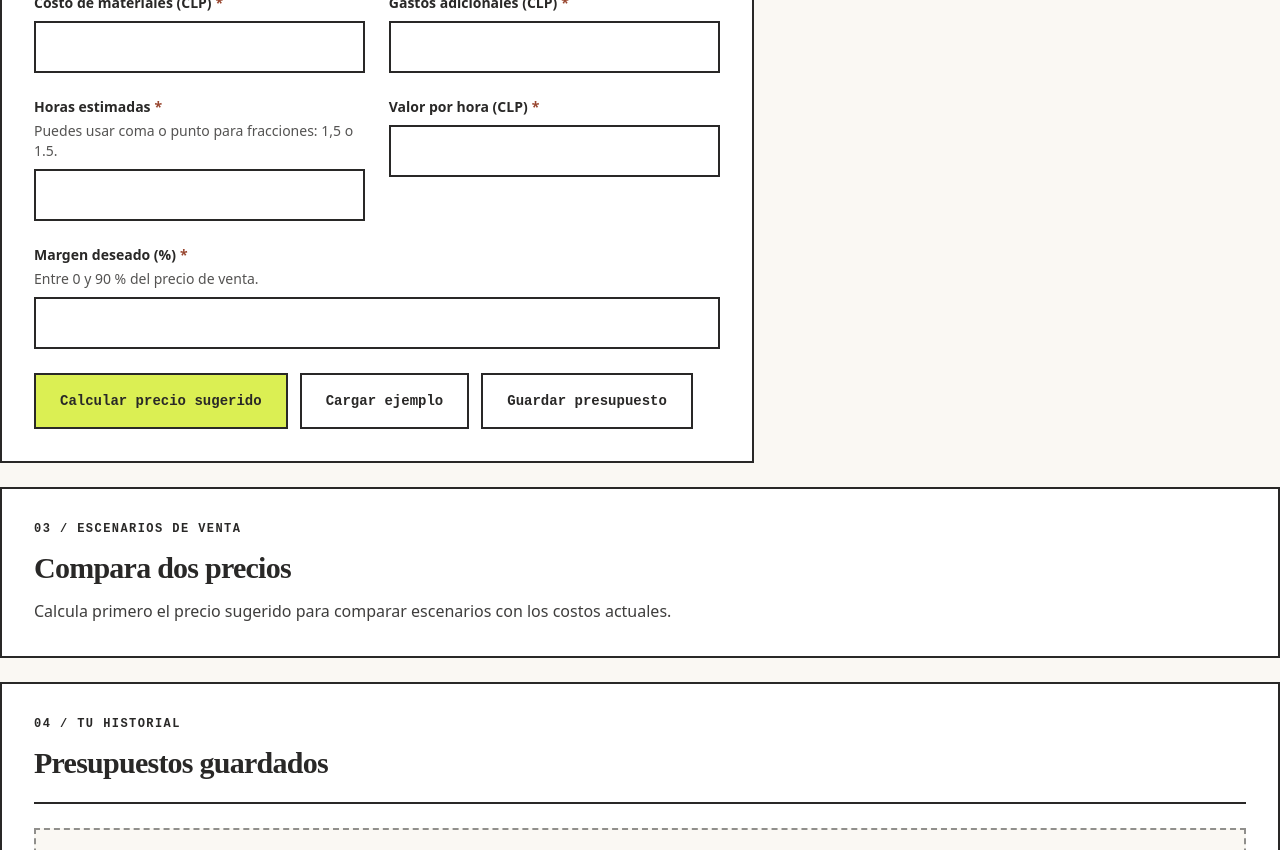
Calculadora › carga un ejemplo editable, limpia errores y descarta resultados previos
(page scrolled)
Click the button "Calcular precio sugerido": (161, 400) [34, 372, 288, 428]
(page scrolled)
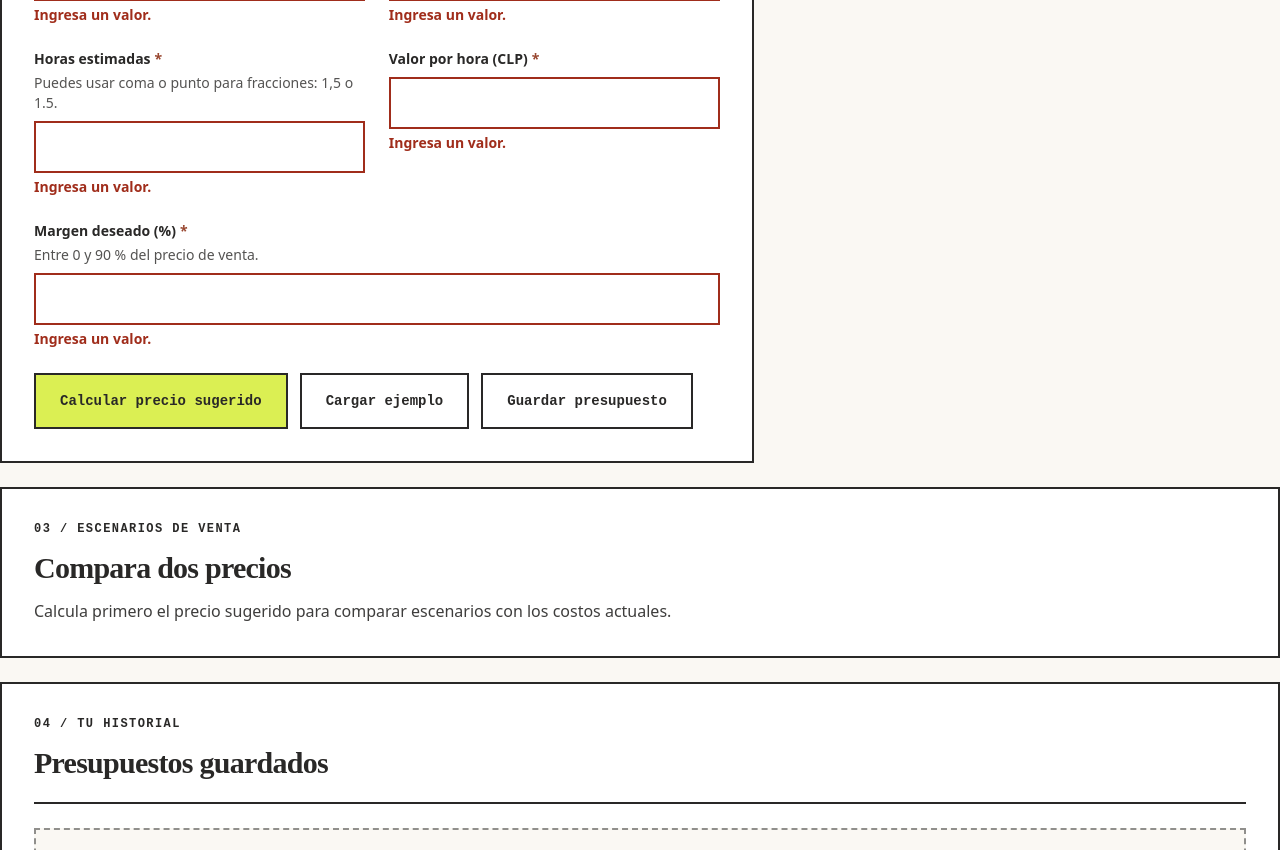
Click the button "Cargar ejemplo": (384, 400) [300, 372, 469, 428]
(page scrolled)
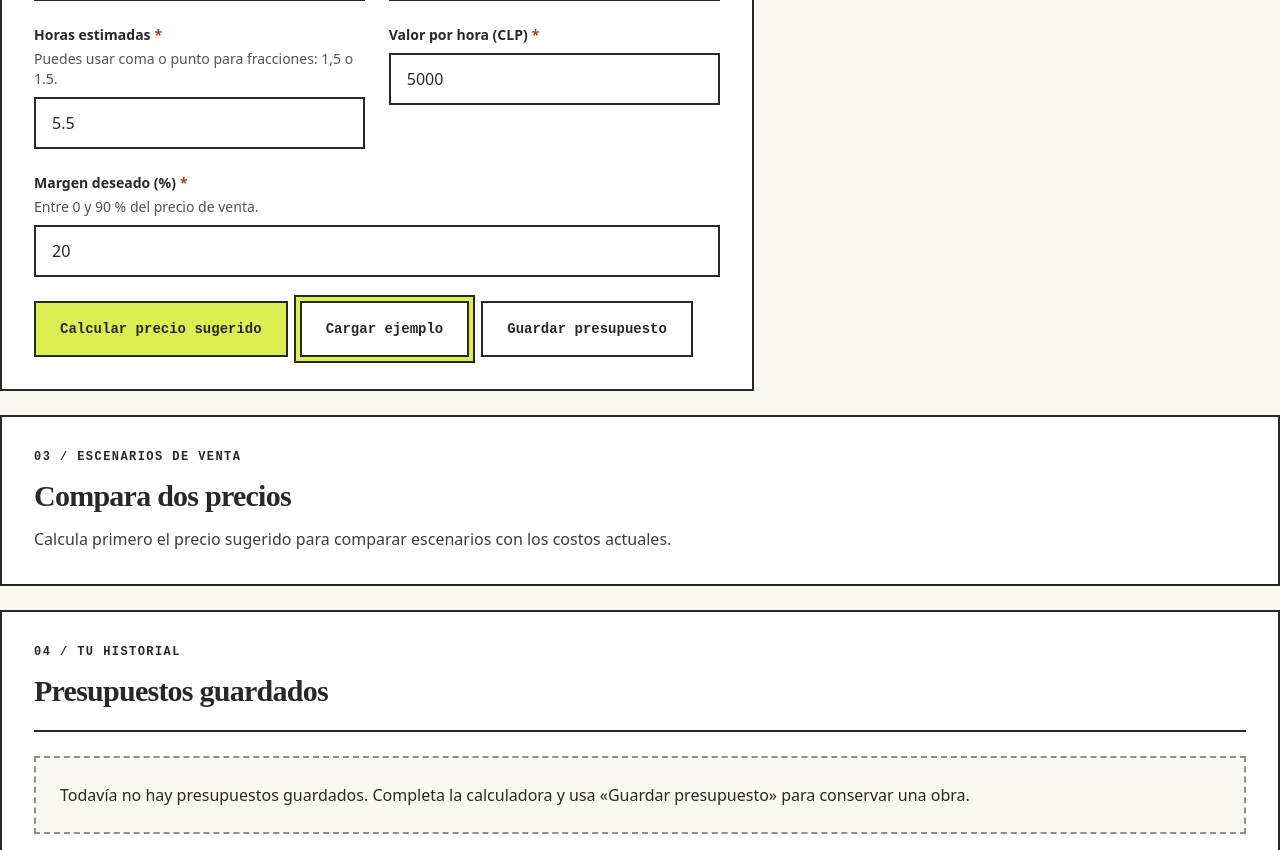
Expected: the field labelled "Horas estimadas" holds "5.5", [34, 96, 365, 148]
Click the button "Calcular precio sugerido": (161, 328) [34, 300, 288, 356]
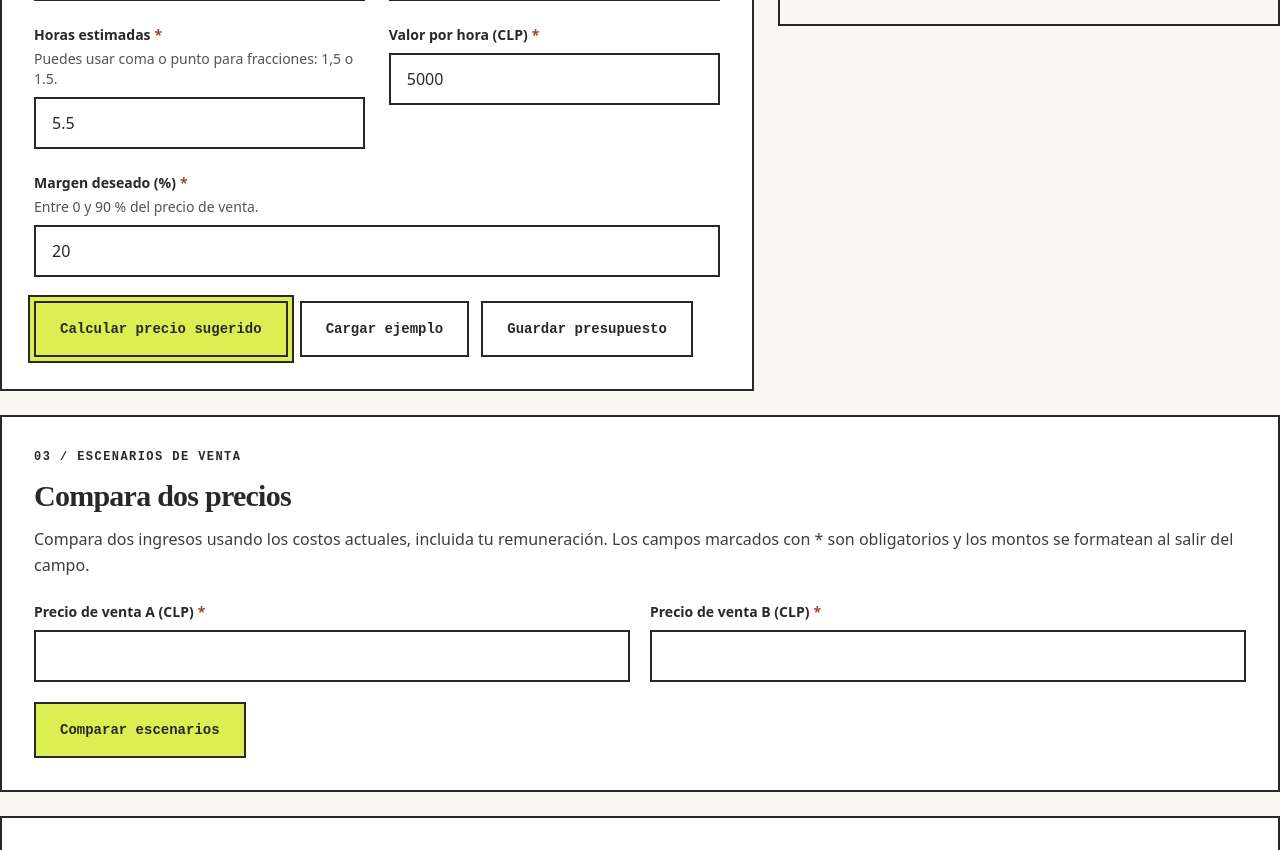
Click the button "Cargar ejemplo": (384, 328) [300, 300, 469, 356]
(page scrolled)
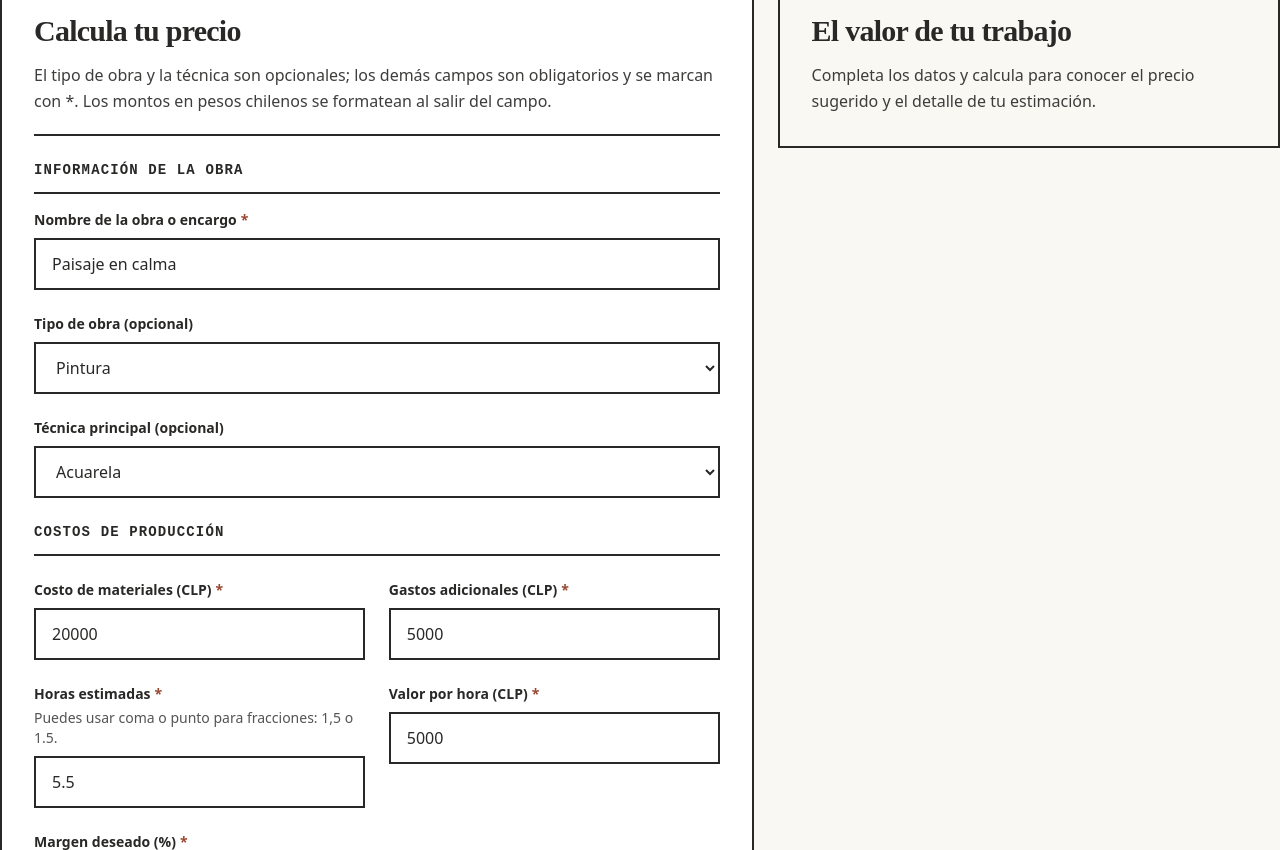
Expected: the text "Completa los datos" is shown, [812, 64, 1194, 112]
